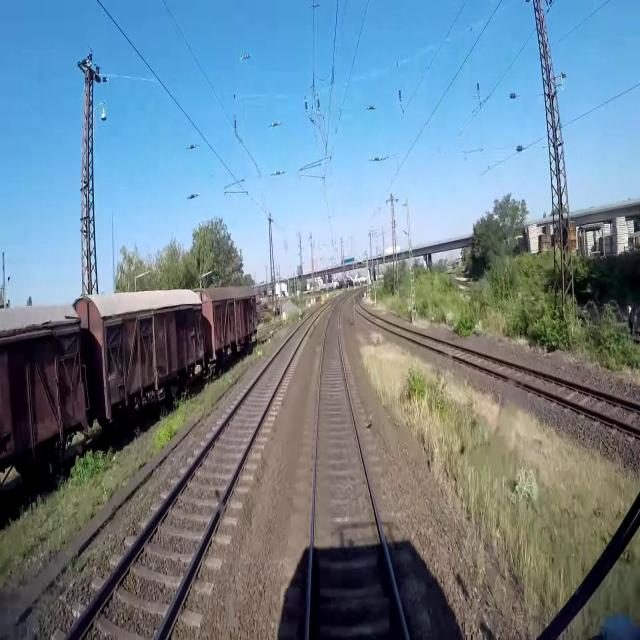rail-track: (70, 309, 321, 639), (355, 296, 640, 425), (310, 301, 405, 639)
